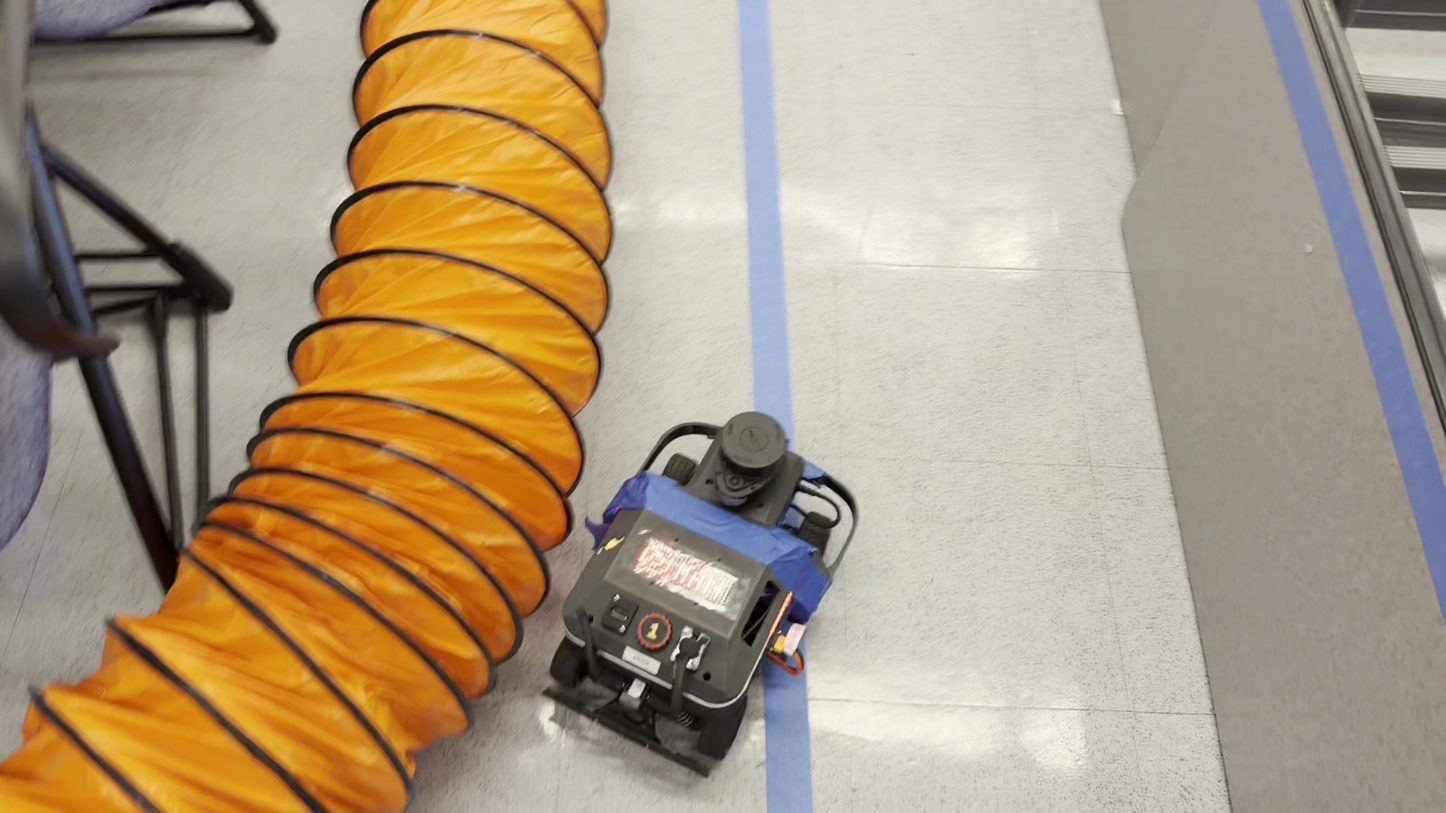racecar: (541, 413, 856, 774)
